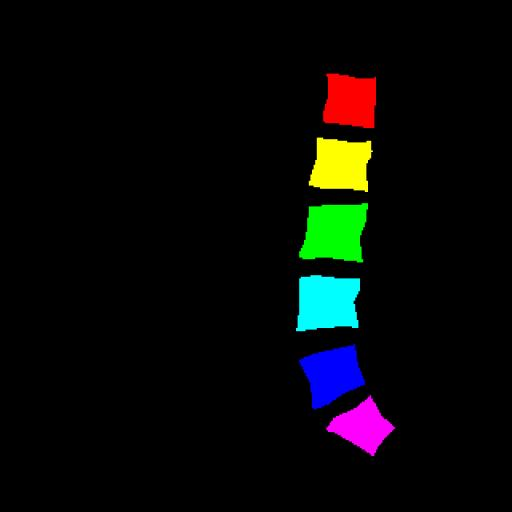L1: (323, 74, 376, 128)
L2: (309, 138, 371, 192)
L3: (299, 204, 368, 262)
L4: (296, 277, 360, 330)
L5: (299, 345, 365, 408)
S1: (326, 396, 395, 456)
